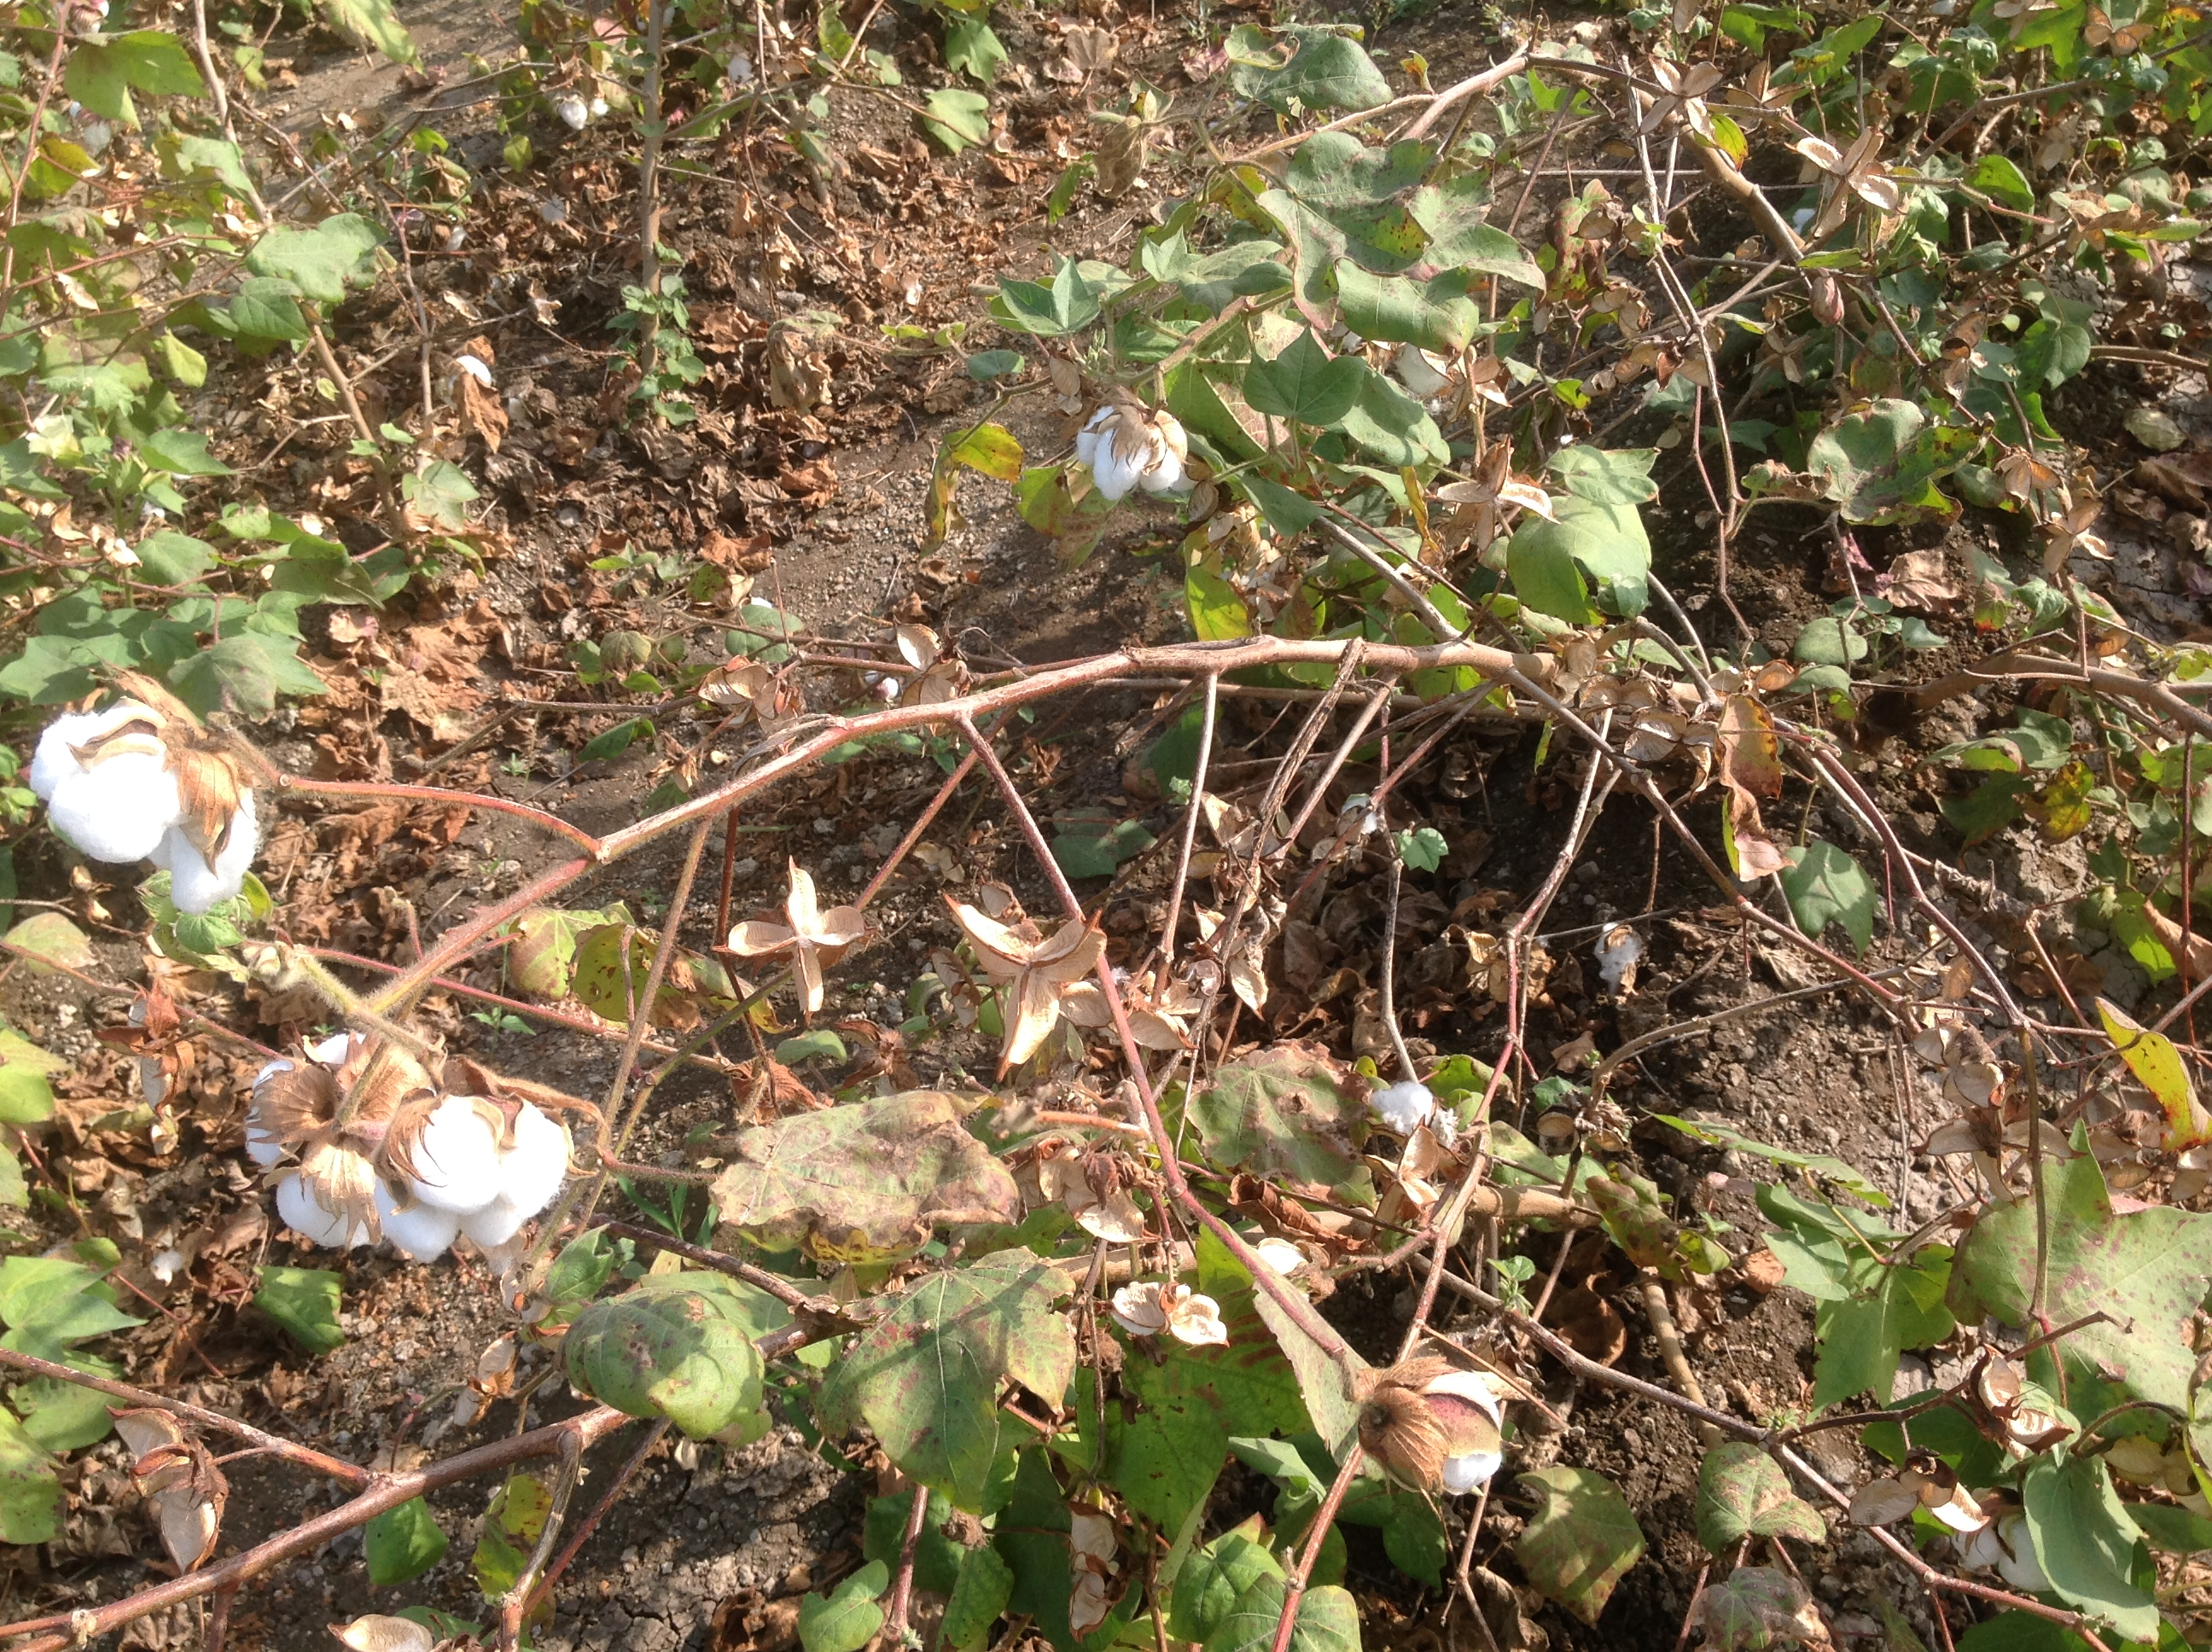cotton: (243, 1031, 592, 1262), (35, 673, 260, 927), (1074, 399, 1204, 515)
